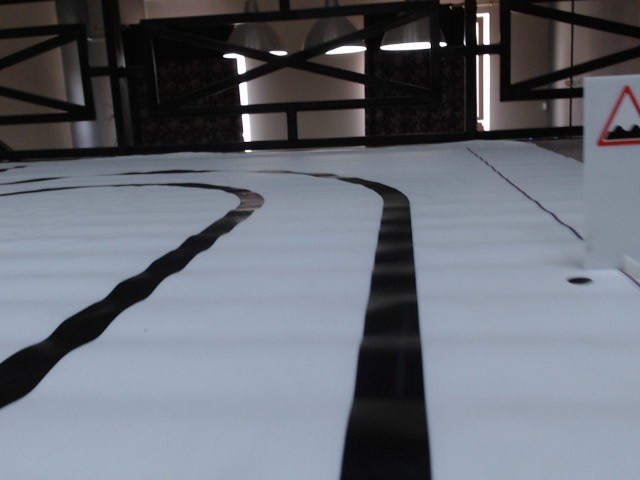Nerov: (590, 83, 640, 151)
